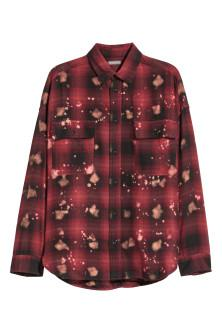teeshirt: (10, 38, 214, 288)
